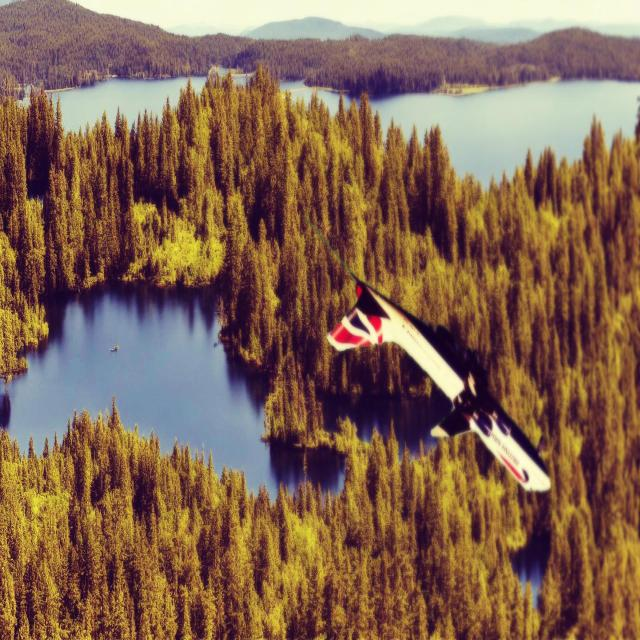airplane: (304, 216, 551, 491)
